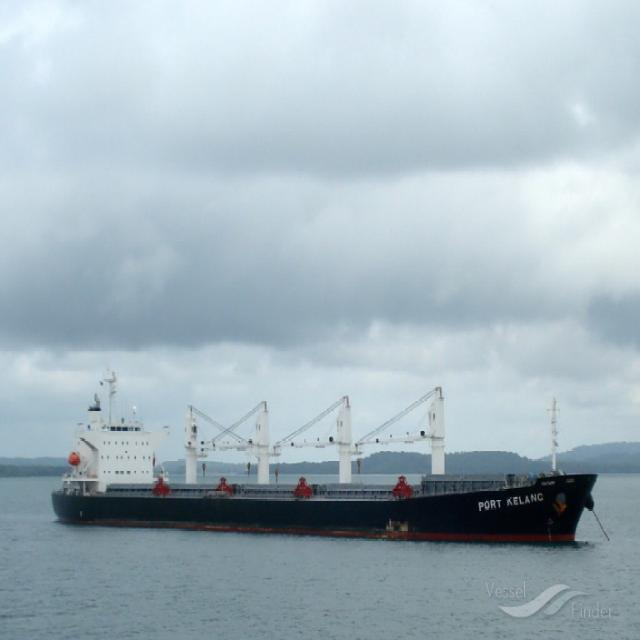OCR: (474, 492, 547, 515)
